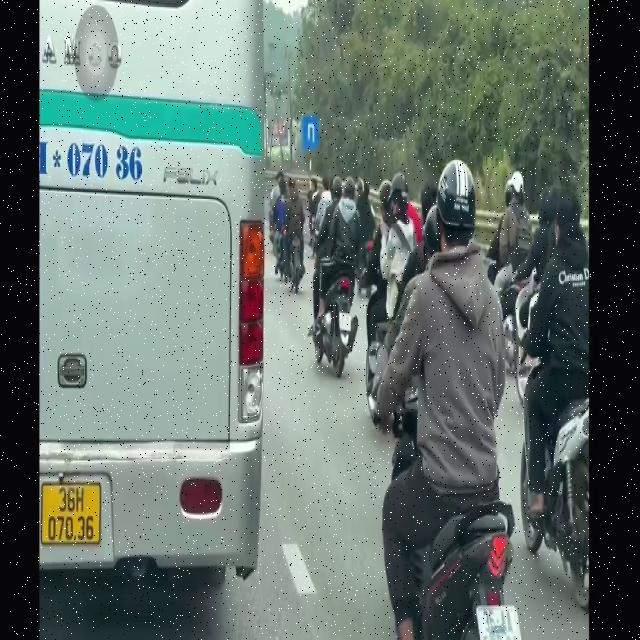helmet: (436, 160, 475, 279), (391, 168, 410, 243), (510, 167, 524, 222)
